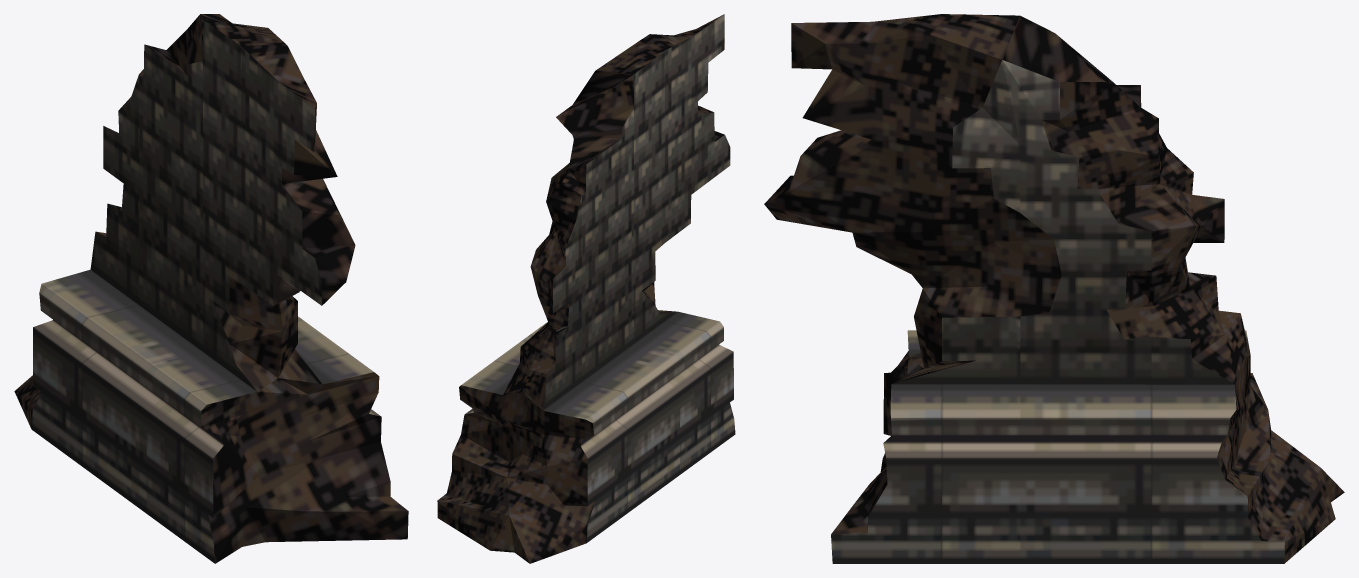
The model's file is EnvMdrMD_Castle_A_Wall_A_Debris_A_Prop_A.FBX.
The picture shows the model from 3 angles, left to right: view 1: azimuth 30°, elevation 25°; view 2: azimuth 150°, elevation 25°; view 3: azimuth 270°, elevation 25°; orthographic projection. The views are drawn at different scales.
Parts seen in each view (by area): view 1: EnvMdrMD_Castle_A_Wall_A_Debris_A_Prop_A; view 2: EnvMdrMD_Castle_A_Wall_A_Debris_A_Prop_A; view 3: EnvMdrMD_Castle_A_Wall_A_Debris_A_Prop_A.
Boxes of the visible parts, x1,y1,x2,y2 form: EnvMdrMD_Castle_A_Wall_A_Debris_A_Prop_A: [14, 14, 408, 563]; EnvMdrMD_Castle_A_Wall_A_Debris_A_Prop_A: [437, 14, 735, 563]; EnvMdrMD_Castle_A_Wall_A_Debris_A_Prop_A: [764, 14, 1344, 563].
Size of the model in its own units: 120 by 327 by 347.
1 material, 1 textured.
